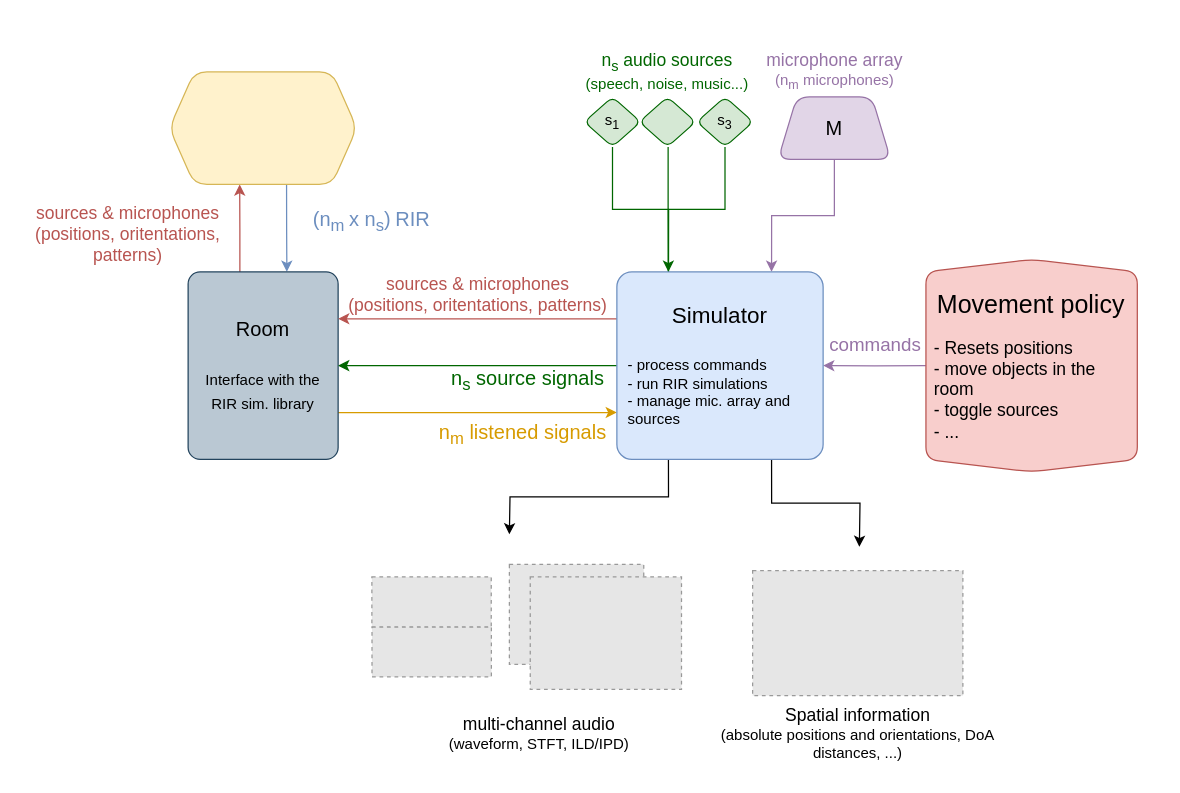
Some shapes in this 1180 by 793 pixel diagram are drawn without their labels. Grey dashed boxes stand in for pictures. The centre of each missing label's shape, as x and y in pixels:
RIR simulation library (GpuRIR / Pyroomacoustics): the point at 262,127
s 2: the point at 667,121
